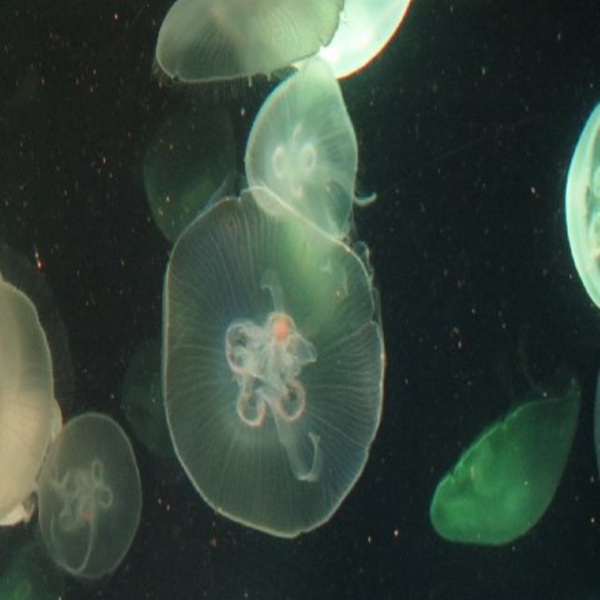Jellyfish: (161, 184, 385, 540), (421, 380, 581, 546), (247, 53, 372, 246), (35, 413, 145, 588), (0, 277, 64, 531), (154, 0, 345, 83), (142, 93, 235, 255), (561, 102, 598, 318)
